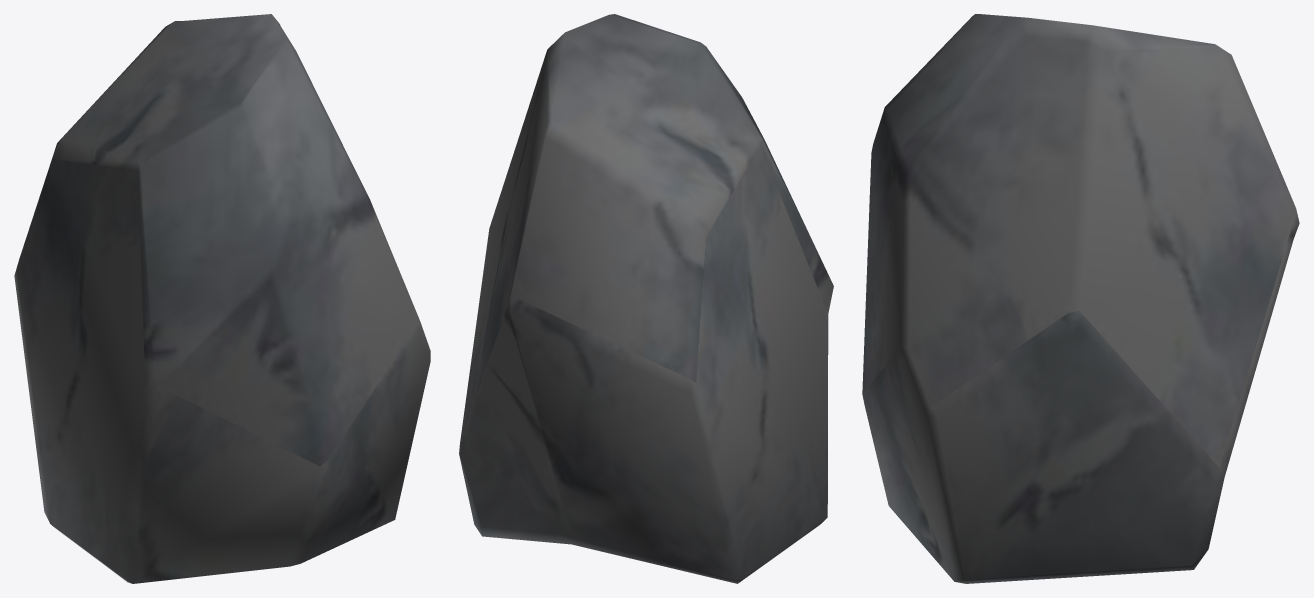
File: Pedra4.fbx
3 renders of one model, left to right at view 1: azimuth 30°, elevation 25°; view 2: azimuth 150°, elevation 25°; view 3: azimuth 270°, elevation 25°, orthographic. The views are drawn at different scales.
Visible parts, largest first — view 1: Pedra4; view 2: Pedra4; view 3: Pedra4.
Part boxes in pixels (x1,y1,x2,y2): Pedra4: (14,14,430,583); Pedra4: (459,14,833,583); Pedra4: (862,14,1299,583).
Size of the model in its own units: 79.23 by 123 by 91.7.
